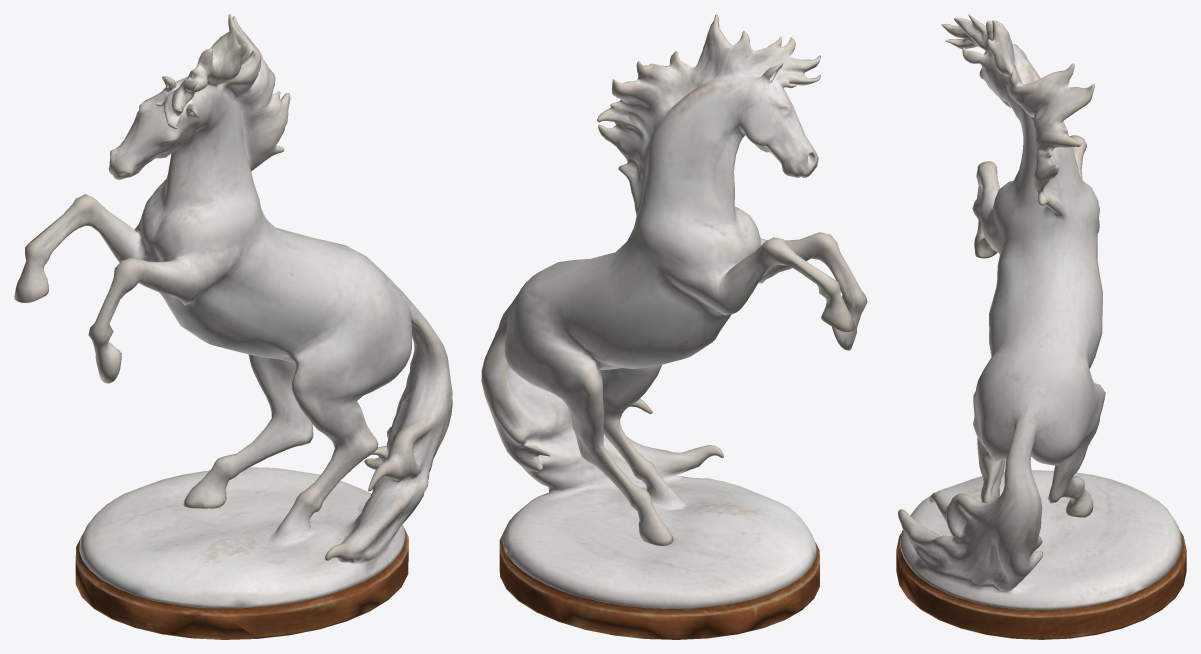
File: polyhaven-horse-statue-01.glb
3 renders of one model, left to right at view 1: azimuth 30°, elevation 25°; view 2: azimuth 150°, elevation 25°; view 3: azimuth 270°, elevation 25°, orthographic. The views are drawn at different scales.
Visible parts, largest first — view 1: horse_statue_01; view 2: horse_statue_01; view 3: horse_statue_01.
Part boxes in pixels (x1=…): horse_statue_01: x1=14, y1=14, x2=452, y2=639; horse_statue_01: x1=481, y1=14, x2=867, y2=639; horse_statue_01: x1=896, y1=14, x2=1186, y2=639.
Bounding box in the file's own units: 0.1638 × 0.22 × 0.1078.
1 material, 1 textured.
